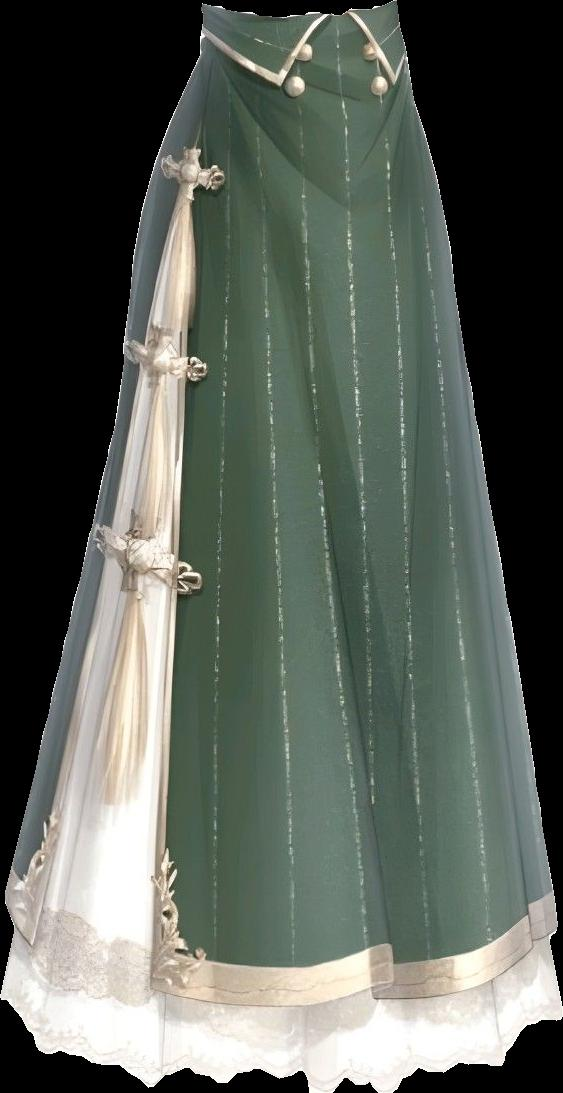Hemline: (0, 137, 562, 1017), (0, 983, 560, 1092), (195, 13, 414, 89)
Waistline: (204, 0, 400, 27)
